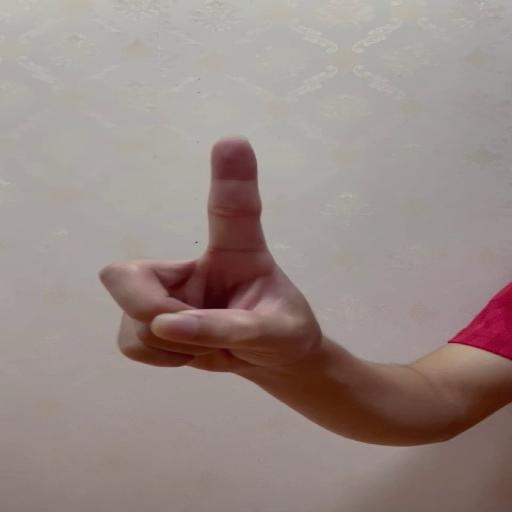point: (97, 134, 288, 370)
